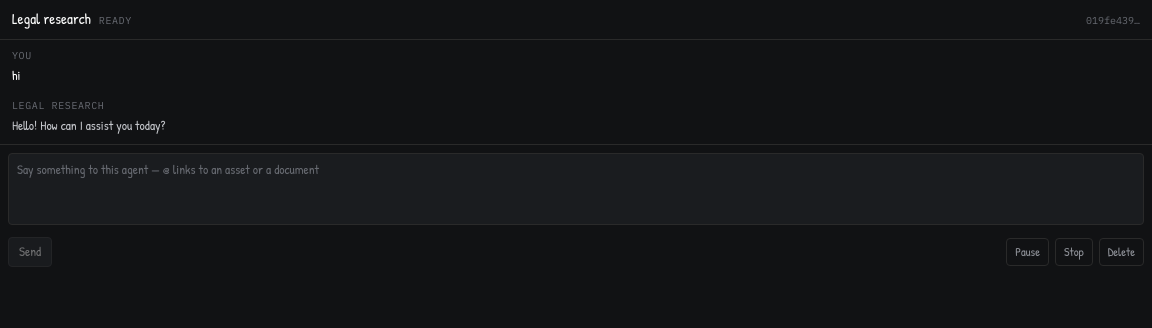
Test: deleting a work session › afterwards the panel offers to start a new one, not the old transcript
The width and height of the screenshot is (1152, 328).
Click the button with test id "session-delete" at [1121, 252], box [1099,238,1144,266]
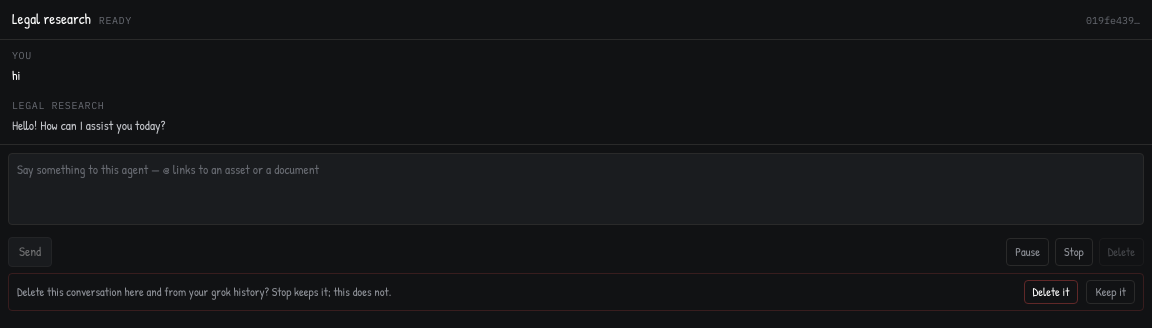
Click the button with test id "session-delete-yes" at [1051, 292], box [1024,280,1078,304]
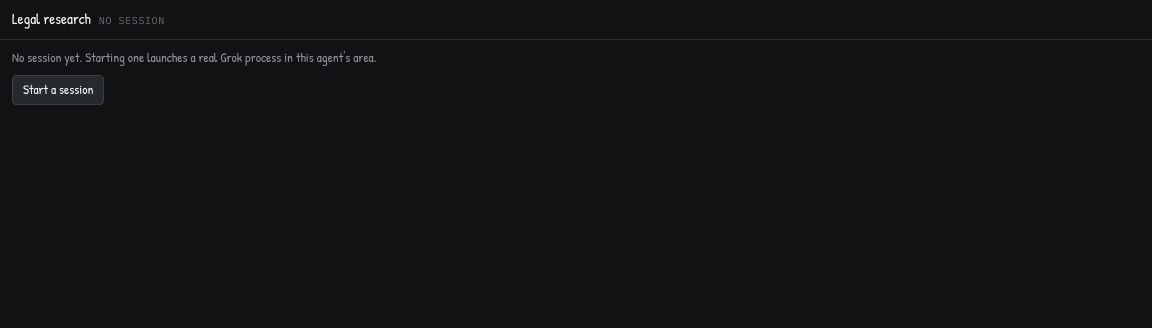
Now the button with test id "session-start" is shown, box [12,75,104,104]
Now the text "Hello! How can I assist you today?" is gone
